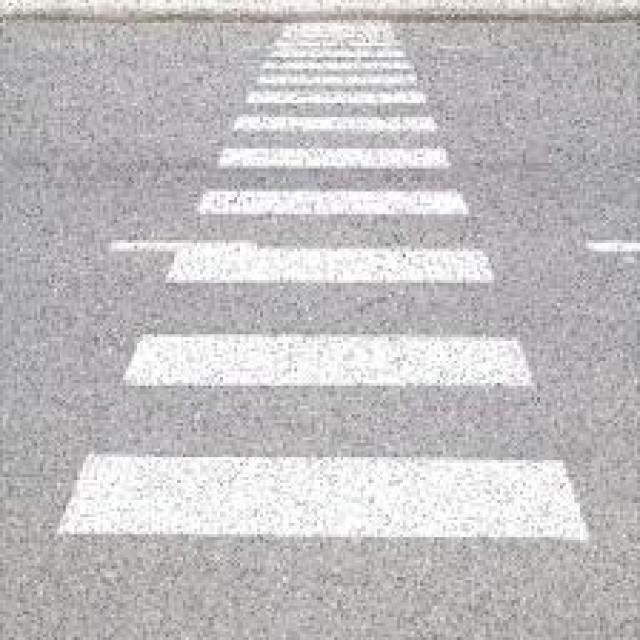crosswalk: (49, 4, 596, 550)
